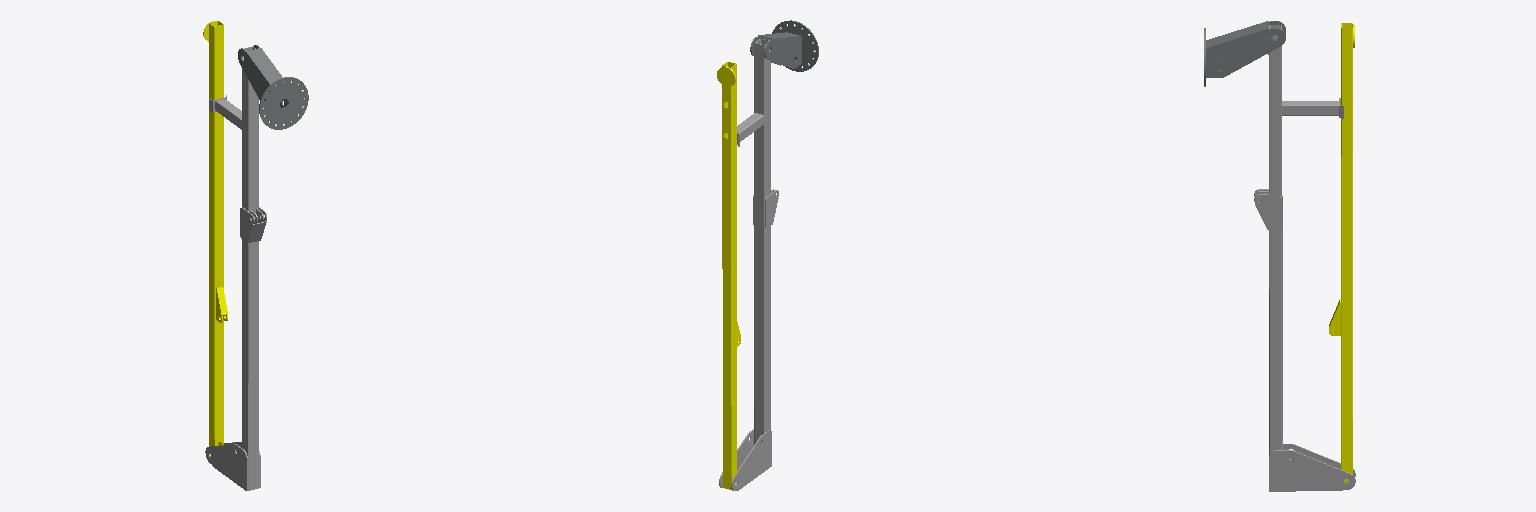
robot.urdf — Arm:
<?xml version="1.0" encoding="utf-8"?>
<!-- This URDF was automatically created by SolidWorks to URDF Exporter! Originally created by [author] ([email redacted]) 
     Commit Version: 1.6.0-4-g7f85cfe  Build Version: 1.6.7995.38578
     For more information, please see http://wiki.ros.org/sw_urdf_exporter -->
<robot
  name="Arm">
  <link
    name="base_link">
    <inertial>
      <origin
        xyz="-8.2618E-06 0.1277 0.046156"
        rpy="0 0 0" />
      <mass
        value="16.465" />
      <inertia
        ixx="0.2163"
        ixy="-1.8162E-09"
        ixz="-1.0913E-09"
        iyy="0.12127"
        iyz="-0.055031"
        izz="0.1752" />
    </inertial>
    <visual>
      <origin
        xyz="0 0 0"
        rpy="0 0 0" />
      <geometry>
        <mesh
          filename="package://arm_control/meshes/base_link.STL" />
      </geometry>
      <material
        name="">
        <color
          rgba="0.52941 0.54902 0.54902 1" />
      </material>
    </visual>
    <collision>
      <origin
        xyz="0 0 0"
        rpy="0 0 0" />
      <geometry>
        <mesh
          filename="package://arm_control/meshes/base_link.STL" />
      </geometry>
    </collision>
  </link>
  <link
    name="boom1_link">
    <inertial>
      <origin
        xyz="-4.7901E-06 0.046055 -1.5726"
        rpy="0 0 0" />
      <mass
        value="52.538" />
      <inertia
        ixx="20.62"
        ixy="-6.9625E-09"
        ixz="1.8494E-09"
        iyy="20.414"
        iyz="0.039229"
        izz="0.2651" />
    </inertial>
    <visual>
      <origin
        xyz="0 0 0"
        rpy="0 0 0" />
      <geometry>
        <mesh
          filename="package://arm_control/meshes/boom1_link.STL" />
      </geometry>
      <material
        name="">
        <color
          rgba="0.69804 0.69804 0.69804 1" />
      </material>
    </visual>
    <collision>
      <origin
        xyz="0 0 0"
        rpy="0 0 0" />
      <geometry>
        <mesh
          filename="package://arm_control/meshes/boom1_link.STL" />
      </geometry>
    </collision>
  </link>
  <joint
    name="base_boom1_joint"
    type="revolute">
    <origin
      xyz="0 0.383 0.14105"
      rpy="0 0 0" />
    <parent
      link="base_link" />
    <child
      link="boom1_link" />
    <axis
      xyz="1 0 0" />
    <limit
      lower="0"
      upper="1.5708"
      effort="0"
      velocity="0" />
  </joint>
  <link
    name="boom2_link">
    <inertial>
      <origin
        xyz="-1.2248E-06 -0.00011414 1.3628"
        rpy="0 0 0" />
      <mass
        value="20.893" />
      <inertia
        ixx="11.689"
        ixy="-2.4E-10"
        ixz="2.4101E-09"
        iyy="11.69"
        iyz="-0.011609"
        izz="0.024708" />
    </inertial>
    <visual>
      <origin
        xyz="0 0 0"
        rpy="0 0 0" />
      <geometry>
        <mesh
          filename="package://arm_control/meshes/boom2_link.STL" />
      </geometry>
      <material
        name="">
        <color
          rgba="1 1 0 1" />
      </material>
    </visual>
    <collision>
      <origin
        xyz="0 0 0"
        rpy="0 0 0" />
      <geometry>
        <mesh
          filename="package://arm_control/meshes/boom2_link.STL" />
      </geometry>
    </collision>
  </link>
  <joint
    name="boom1_boom2_joint"
    type="revolute">
    <origin
      xyz="0 0.38465 -2.6497"
      rpy="0 0 0" />
    <parent
      link="boom1_link" />
    <child
      link="boom2_link" />
    <axis
      xyz="1 0 0" />
    <limit
      lower="0"
      upper="1.5708"
      effort="0"
      velocity="0" />
  </joint>
</robot>

--- Render facts (derived) ---
3 views of the same robot in one strip: view 1: azimuth 30°, elevation 25°; view 2: azimuth 150°, elevation 25°; view 3: azimuth 270°, elevation 25° (orthographic).
Model Arm with 3 links and 2 joints (2 revolute), rooted at base_link, posed all joints at 0.
Links seen in each view (by area): view 1: boom1_link, boom2_link, base_link; view 2: boom1_link, boom2_link, base_link; view 3: boom1_link, boom2_link, base_link.
Link boxes in pixels (box(x1,y1,x2,y2)): boom1_link: box(205, 47, 266, 490); boom2_link: box(203, 21, 227, 456); base_link: box(238, 45, 308, 129); boom1_link: box(719, 39, 778, 490); boom2_link: box(717, 62, 740, 489); base_link: box(750, 20, 818, 71); boom1_link: box(1254, 25, 1355, 491); boom2_link: box(1329, 23, 1354, 481); base_link: box(1204, 21, 1285, 86).
Bounding box of the posed robot: 0.3207 × 0.8196 × 2.77 m (x, y, z).
Meshes: 3 distinct files referenced, 3 mesh visuals loaded (3 binary STL).